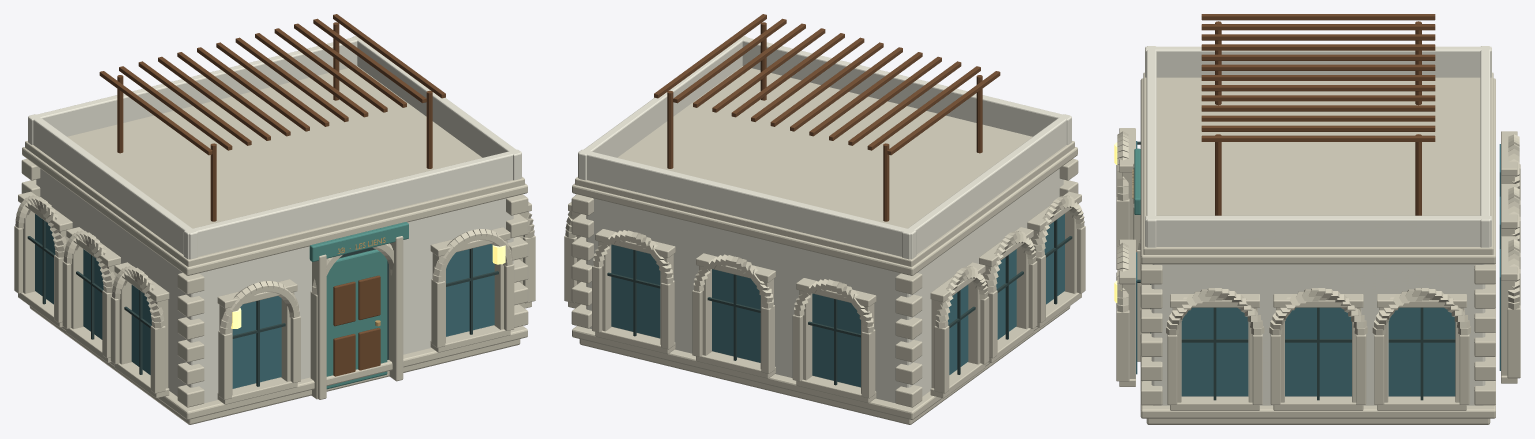
File: algerie-1.glb
The picture shows the model from 3 angles, left to right: view 1: azimuth 30°, elevation 25°; view 2: azimuth 150°, elevation 25°; view 3: azimuth 270°, elevation 25°; orthographic projection. The views are drawn at different scales.
Parts seen in each view (by area): view 1: algerie-1_Dressed stone.003, algerie-1_Masonry plaster.003, algerie-1_Walnut, algerie-1_Window blue, algerie-1_Regional painted wood.003, algerie-1_Forged midnight; view 2: algerie-1_Dressed stone.003, algerie-1_Masonry plaster.003, algerie-1_Window blue, algerie-1_Walnut, algerie-1_Forged midnight; view 3: algerie-1_Dressed stone.003, algerie-1_Masonry plaster.003, algerie-1_Walnut, algerie-1_Window blue, algerie-1_Forged midnight, algerie-1_Regional painted wood.003.
Boxes of the visible parts, left/top/right/bottom form: algerie-1_Dressed stone.003: left=14, top=66, right=535, bottom=424; algerie-1_Masonry plaster.003: left=28, top=36, right=521, bottom=403; algerie-1_Walnut: left=99, top=14, right=445, bottom=376; algerie-1_Window blue: left=35, top=214, right=494, bottom=388; algerie-1_Regional painted wood.003: left=309, top=222, right=408, bottom=389; algerie-1_Forged midnight: left=27, top=219, right=498, bottom=386; algerie-1_Dressed stone.003: left=564, top=66, right=1085, bottom=424; algerie-1_Masonry plaster.003: left=578, top=36, right=1071, bottom=403; algerie-1_Window blue: left=611, top=214, right=1064, bottom=387; algerie-1_Walnut: left=654, top=14, right=1000, bottom=221; algerie-1_Forged midnight: left=607, top=219, right=1072, bottom=385; algerie-1_Dressed stone.003: left=1116, top=72, right=1520, bottom=424; algerie-1_Masonry plaster.003: left=1145, top=46, right=1491, bottom=405; algerie-1_Walnut: left=1201, top=14, right=1435, bottom=215; algerie-1_Window blue: left=1136, top=141, right=1500, bottom=396; algerie-1_Forged midnight: left=1137, top=141, right=1455, bottom=400; algerie-1_Regional painted wood.003: left=1134, top=148, right=1140, bottom=214.
Bounding box in the file's own units: 14.12 × 8.67 × 12.18.
